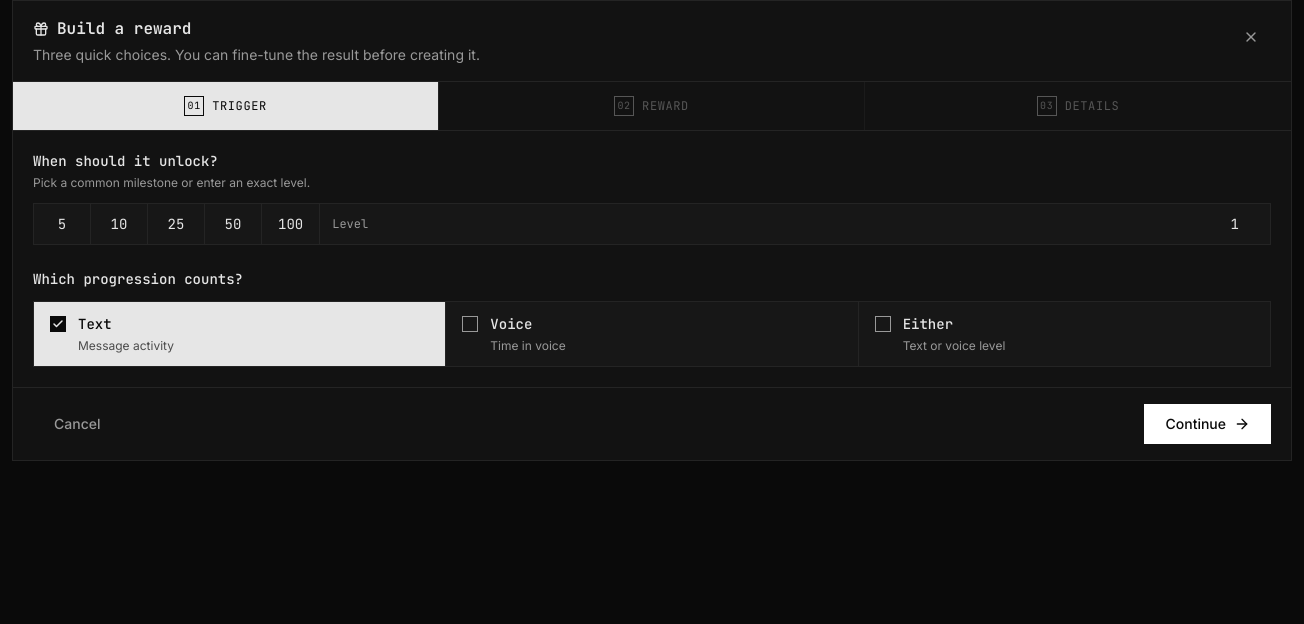
Test: RewardBuilder › guides role rewards and suggests a useful name
The image size is (1304, 624).
Later steps or results of the test are not shown.
Click the button "10" at (119, 224), box 91,204 -> 147,244
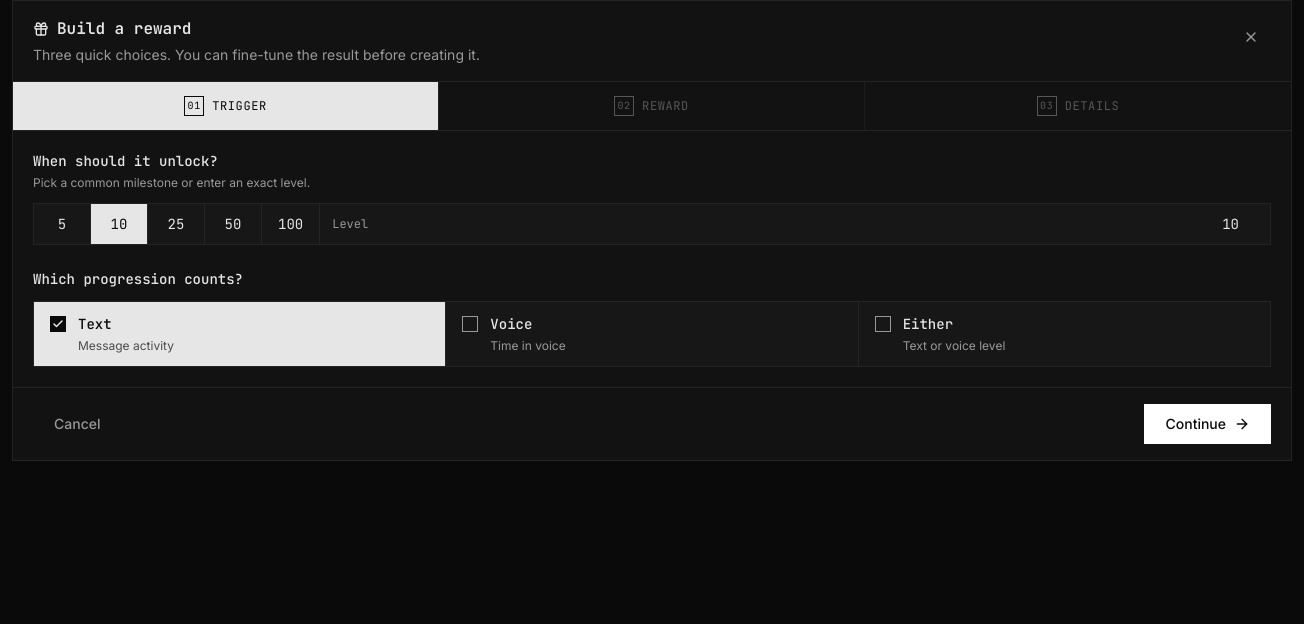
Click the radio button labelled "Voice Time in voice" at (511, 324), box 446,302 -> 858,366
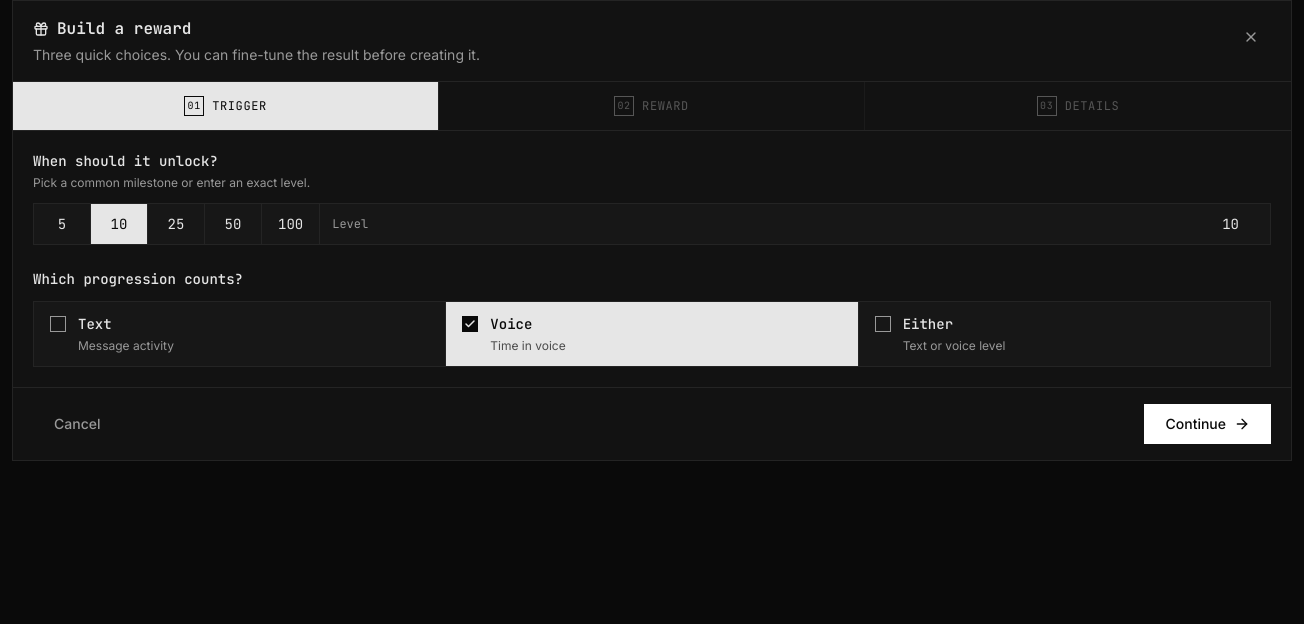
Click the button "Continue" at (1208, 424), box 1144,404 -> 1271,444
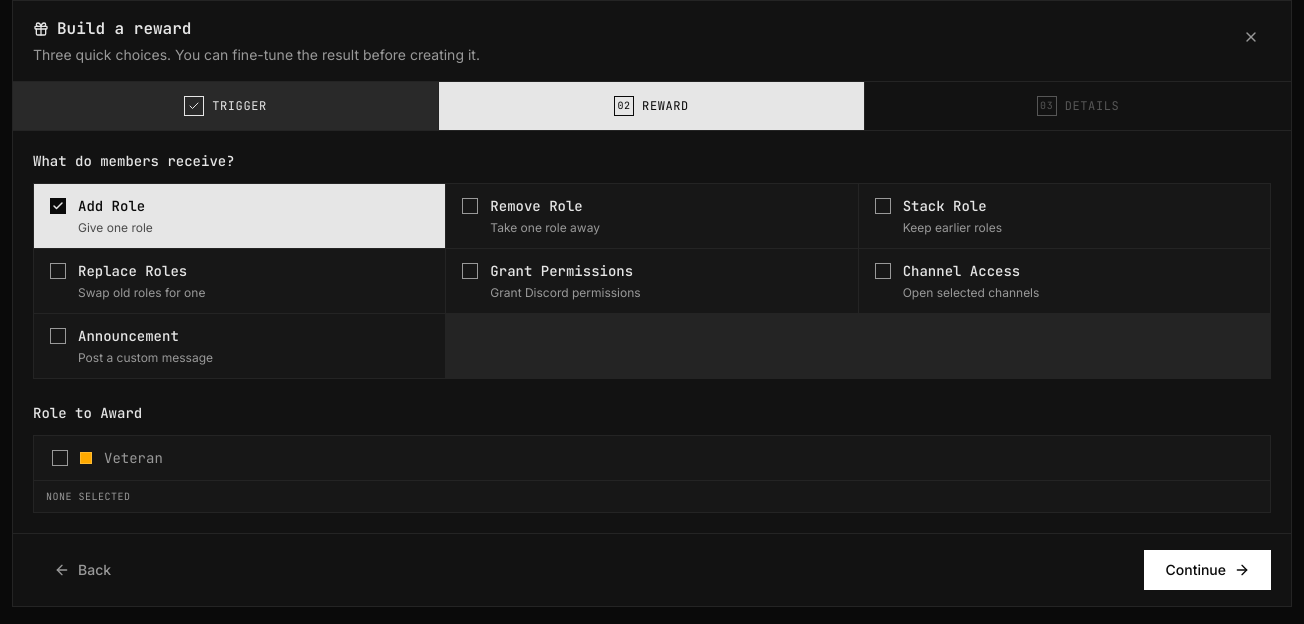
Click the text "Veteran" at (133, 458), box 104,449 -> 163,467
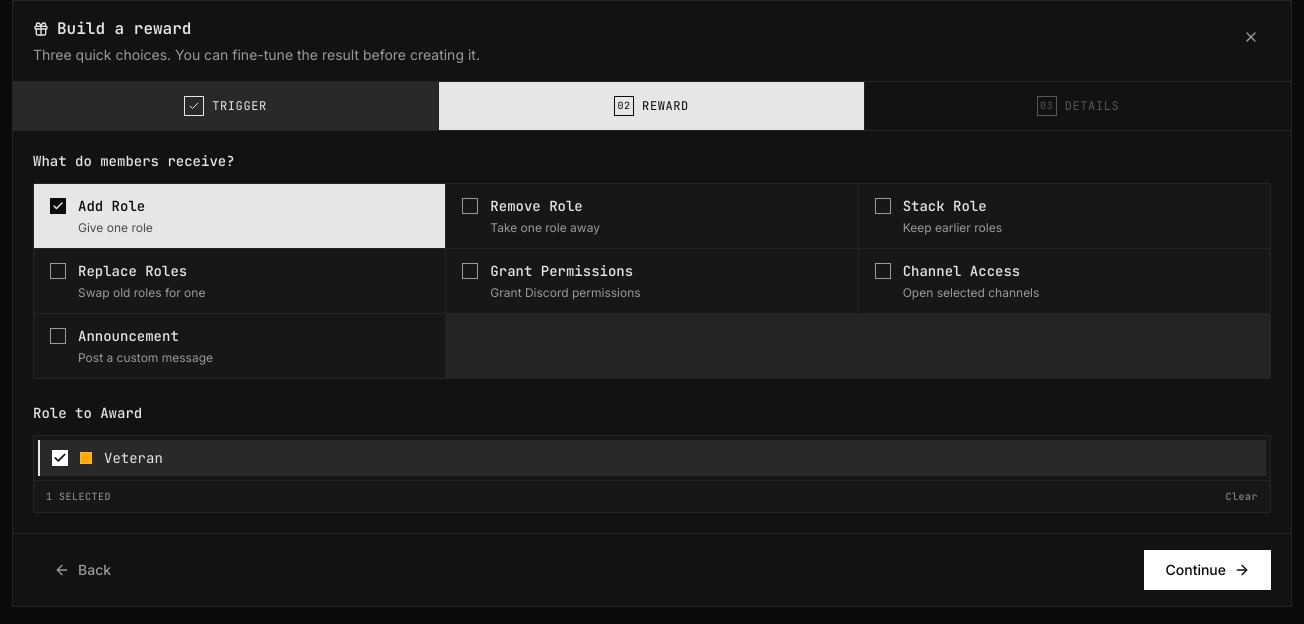
Click the button "Continue" at (1208, 570), box 1144,550 -> 1271,590
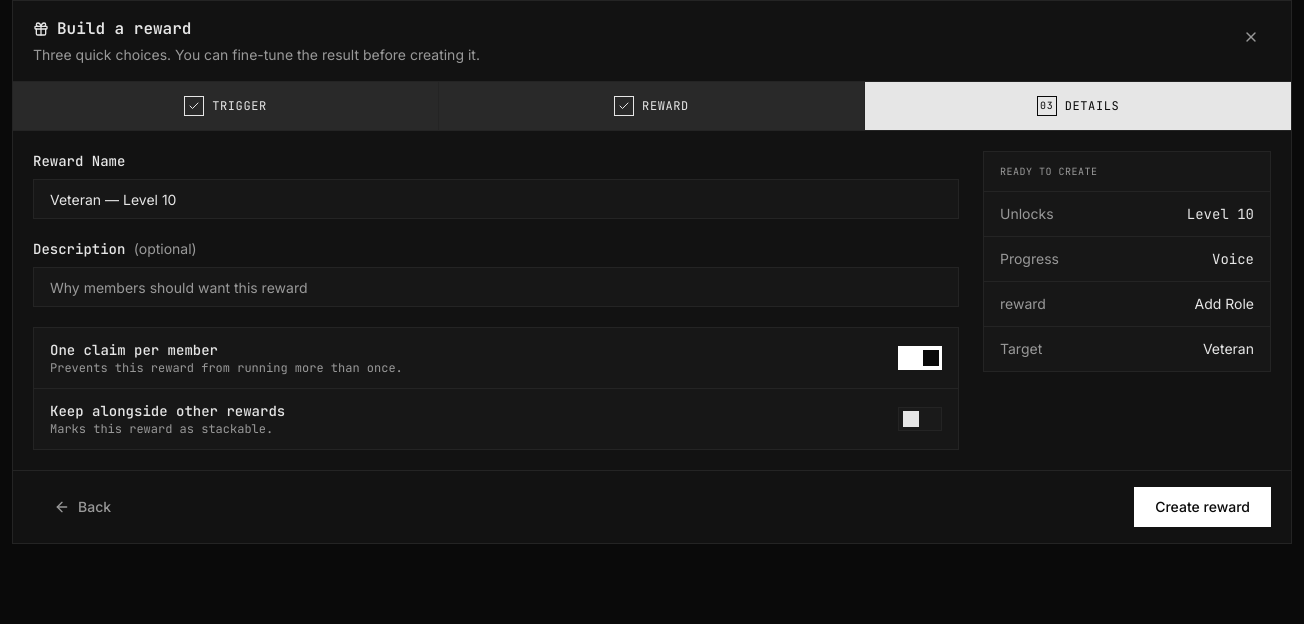
Expected: the field labelled "Reward Name" holds "Veteran — Level 10", 33,179 -> 959,219
Expected: the text "Level 10" is shown, 1187,204 -> 1254,224
Expected: the text "Voice" is shown, 1212,249 -> 1254,269
